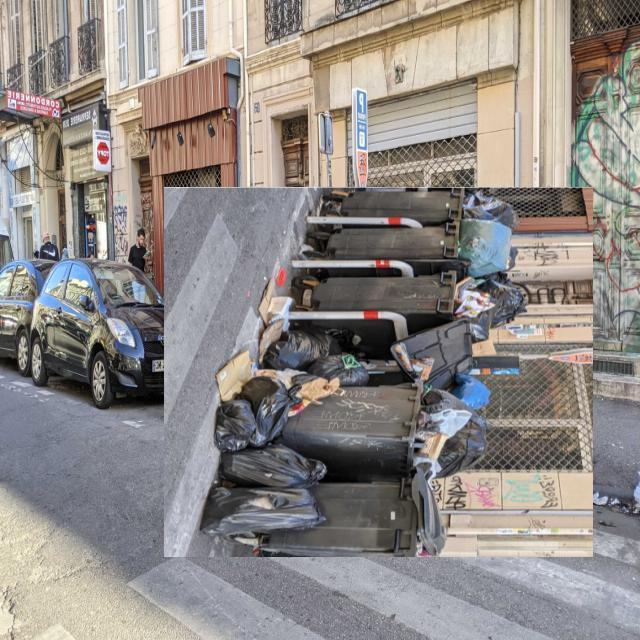Trashbag: (199, 480, 328, 538), (226, 434, 331, 492), (238, 372, 304, 440), (466, 278, 529, 324), (212, 397, 257, 455), (268, 330, 332, 366), (315, 352, 368, 390)
